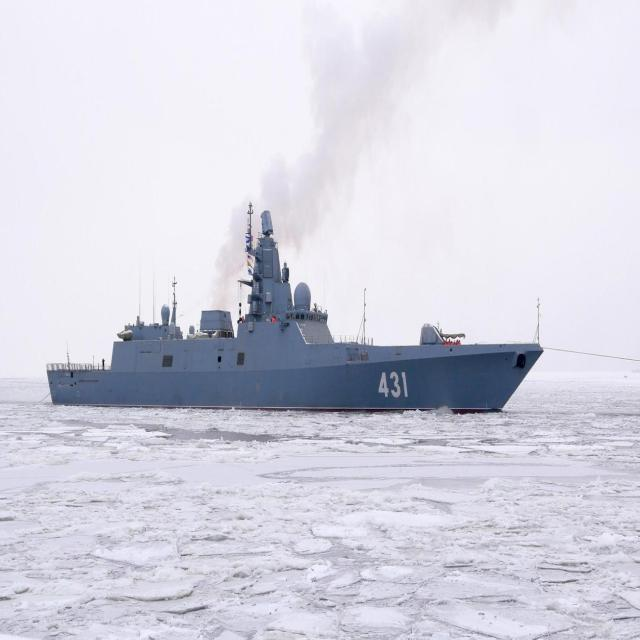navalvessels: (41, 218, 550, 445)
